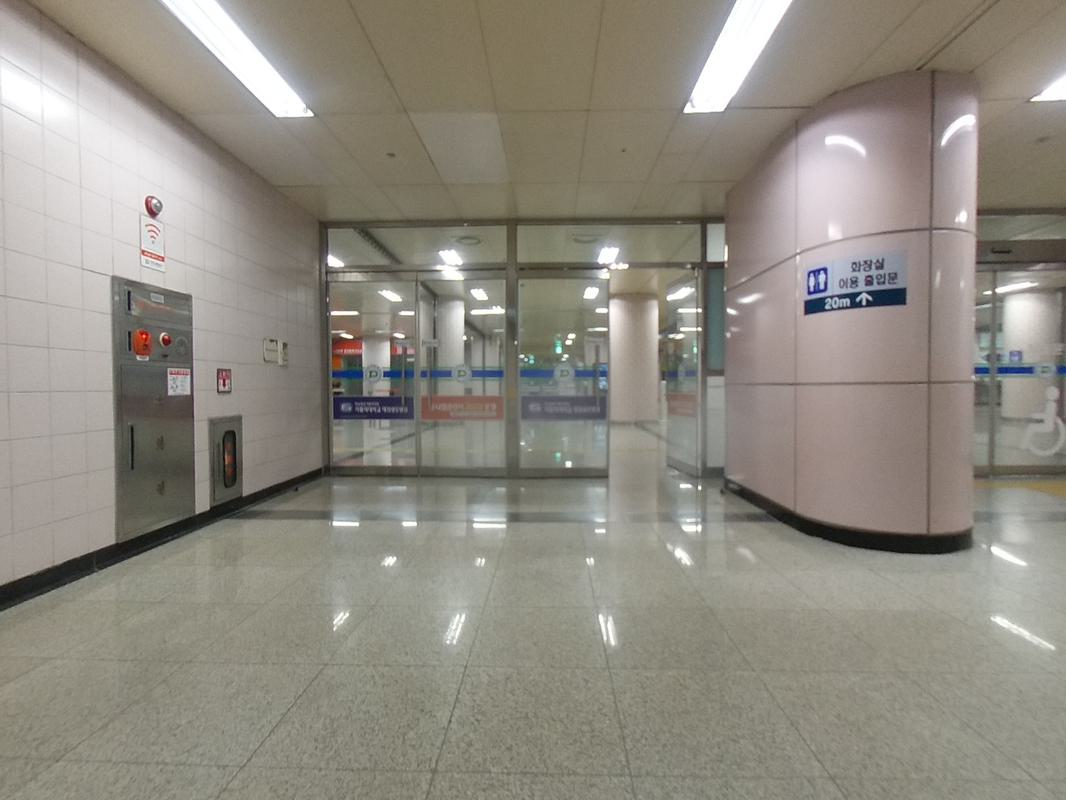automatic door: (108, 274, 199, 542)
building: (3, 0, 1062, 791)
door: (321, 221, 721, 484), (325, 257, 509, 477), (514, 272, 612, 477), (328, 272, 420, 474), (416, 273, 508, 475)
glass door: (514, 262, 612, 477)
station: (3, 0, 1060, 791)
